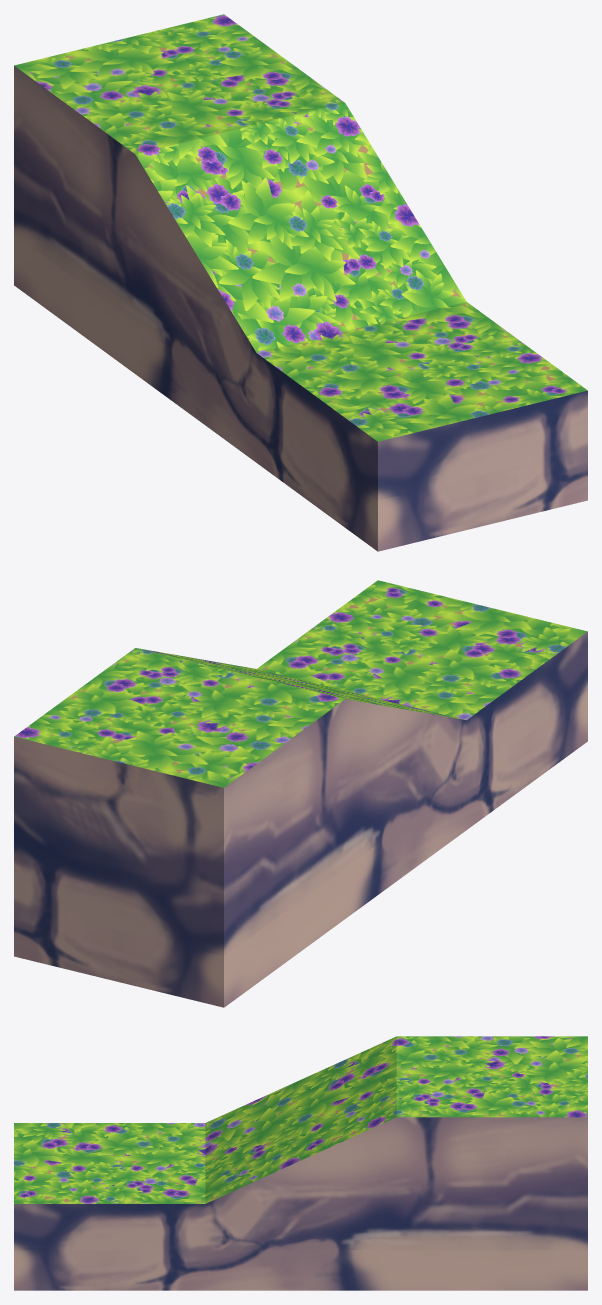
Rendered from block_06.fbx.
3 renders of one model, top to bottom at view 1: azimuth 30°, elevation 25°; view 2: azimuth 150°, elevation 25°; view 3: azimuth 270°, elevation 25°, orthographic. The views are drawn at different scales.
Parts seen in each view (by area): view 1: block_06.001; view 2: block_06.001; view 3: block_06.001.
Part boxes in pixels (x1,y1,x2,y2): block_06.001: (14,14,587,551); block_06.001: (14,580,587,1007); block_06.001: (14,1036,587,1290).
Size of the model in its own units: 400 by 400 by 1200.
Materials: 2 (2 with a texture image).
